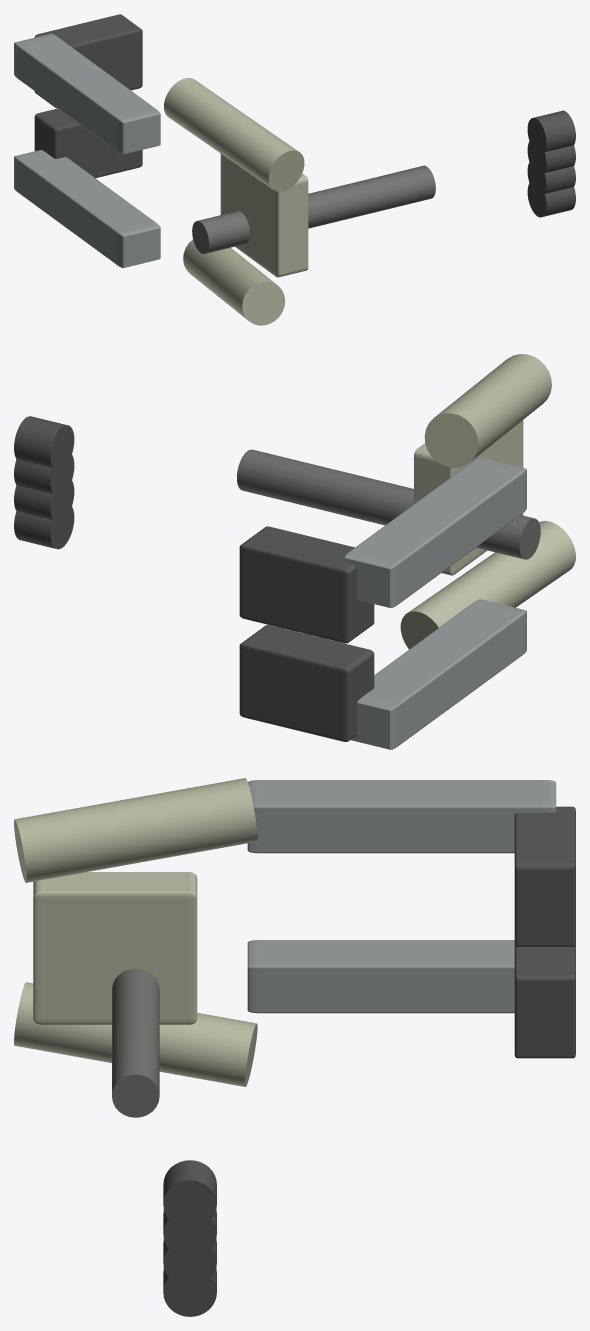
File: v-u09-vanguard-exo-infantry-lod2.glb
3 views of the same model, one above another, from view 1: azimuth 30°, elevation 25°; view 2: azimuth 150°, elevation 25°; view 3: azimuth 270°, elevation 25° (orthographic). The views are drawn at different scales.
Visible parts, largest first — view 1: exo_servo_leg_1, exo_servo_leg_-1, soldier_0_arm_1, soldier_0_chest, soldier_0_rifle, soldier_0_arm_-1, soldier_0_boot_1, soldier_0_boot_-1, exo_rotary_muzzle_3, exo_rotary_muzzle_0, exo_rotary_muzzle_1, exo_rotary_muzzle_2; view 2: exo_servo_leg_1, exo_servo_leg_-1, soldier_0_boot_-1, soldier_0_boot_1, soldier_0_rifle, soldier_0_arm_1, soldier_0_arm_-1, soldier_0_chest, exo_rotary_muzzle_3, exo_rotary_muzzle_0, exo_rotary_muzzle_2, exo_rotary_muzzle_1; view 3: soldier_0_chest, exo_servo_leg_1, exo_servo_leg_-1, soldier_0_arm_1, soldier_0_arm_-1, soldier_0_boot_1, soldier_0_boot_-1, soldier_0_rifle, exo_rotary_muzzle_3, exo_rotary_muzzle_0, exo_rotary_muzzle_2, exo_rotary_muzzle_1.
Part boxes in pixels (x1,y1,x2,y2): exo_servo_leg_1: (14,33,160,154); exo_servo_leg_-1: (14,150,160,267); soldier_0_arm_1: (164,78,304,191); soldier_0_chest: (220,154,308,277); soldier_0_rifle: (192,165,435,253); soldier_0_arm_-1: (183,239,285,325); soldier_0_boot_1: (34,14,142,108); soldier_0_boot_-1: (34,108,142,178); exo_rotary_muzzle_3: (527,110,575,154); exo_rotary_muzzle_0: (527,181,575,217); exo_rotary_muzzle_1: (527,160,575,196); exo_rotary_muzzle_2: (527,139,575,175); exo_servo_leg_1: (344,457,526,607); exo_servo_leg_-1: (351,599,526,749); soldier_0_boot_-1: (239,625,374,741); soldier_0_boot_1: (239,526,374,643); soldier_0_rifle: (237,449,540,559); soldier_0_arm_1: (424,354,551,467); soldier_0_arm_-1: (400,521,575,649); soldier_0_chest: (414,420,523,575); exo_rotary_muzzle_3: (14,416,74,470); exo_rotary_muzzle_0: (14,503,74,549); exo_rotary_muzzle_2: (14,451,74,496); exo_rotary_muzzle_1: (14,477,74,522); soldier_0_chest: (33,872,197,1024); exo_servo_leg_1: (247,780,556,853); exo_servo_leg_-1: (247,940,514,1013); soldier_0_arm_1: (14,778,257,882); soldier_0_arm_-1: (14,982,257,1086); soldier_0_boot_1: (514,806,575,946); soldier_0_boot_-1: (514,943,575,1058); soldier_0_rifle: (112,968,159,1117); exo_rotary_muzzle_3: (163,1160,216,1228); exo_rotary_muzzle_0: (163,1268,216,1316); exo_rotary_muzzle_2: (163,1209,216,1257); exo_rotary_muzzle_1: (163,1239,216,1287).
Size of what is drawn, in the model's own units: 2.34 by 1.08 by 1.91.
